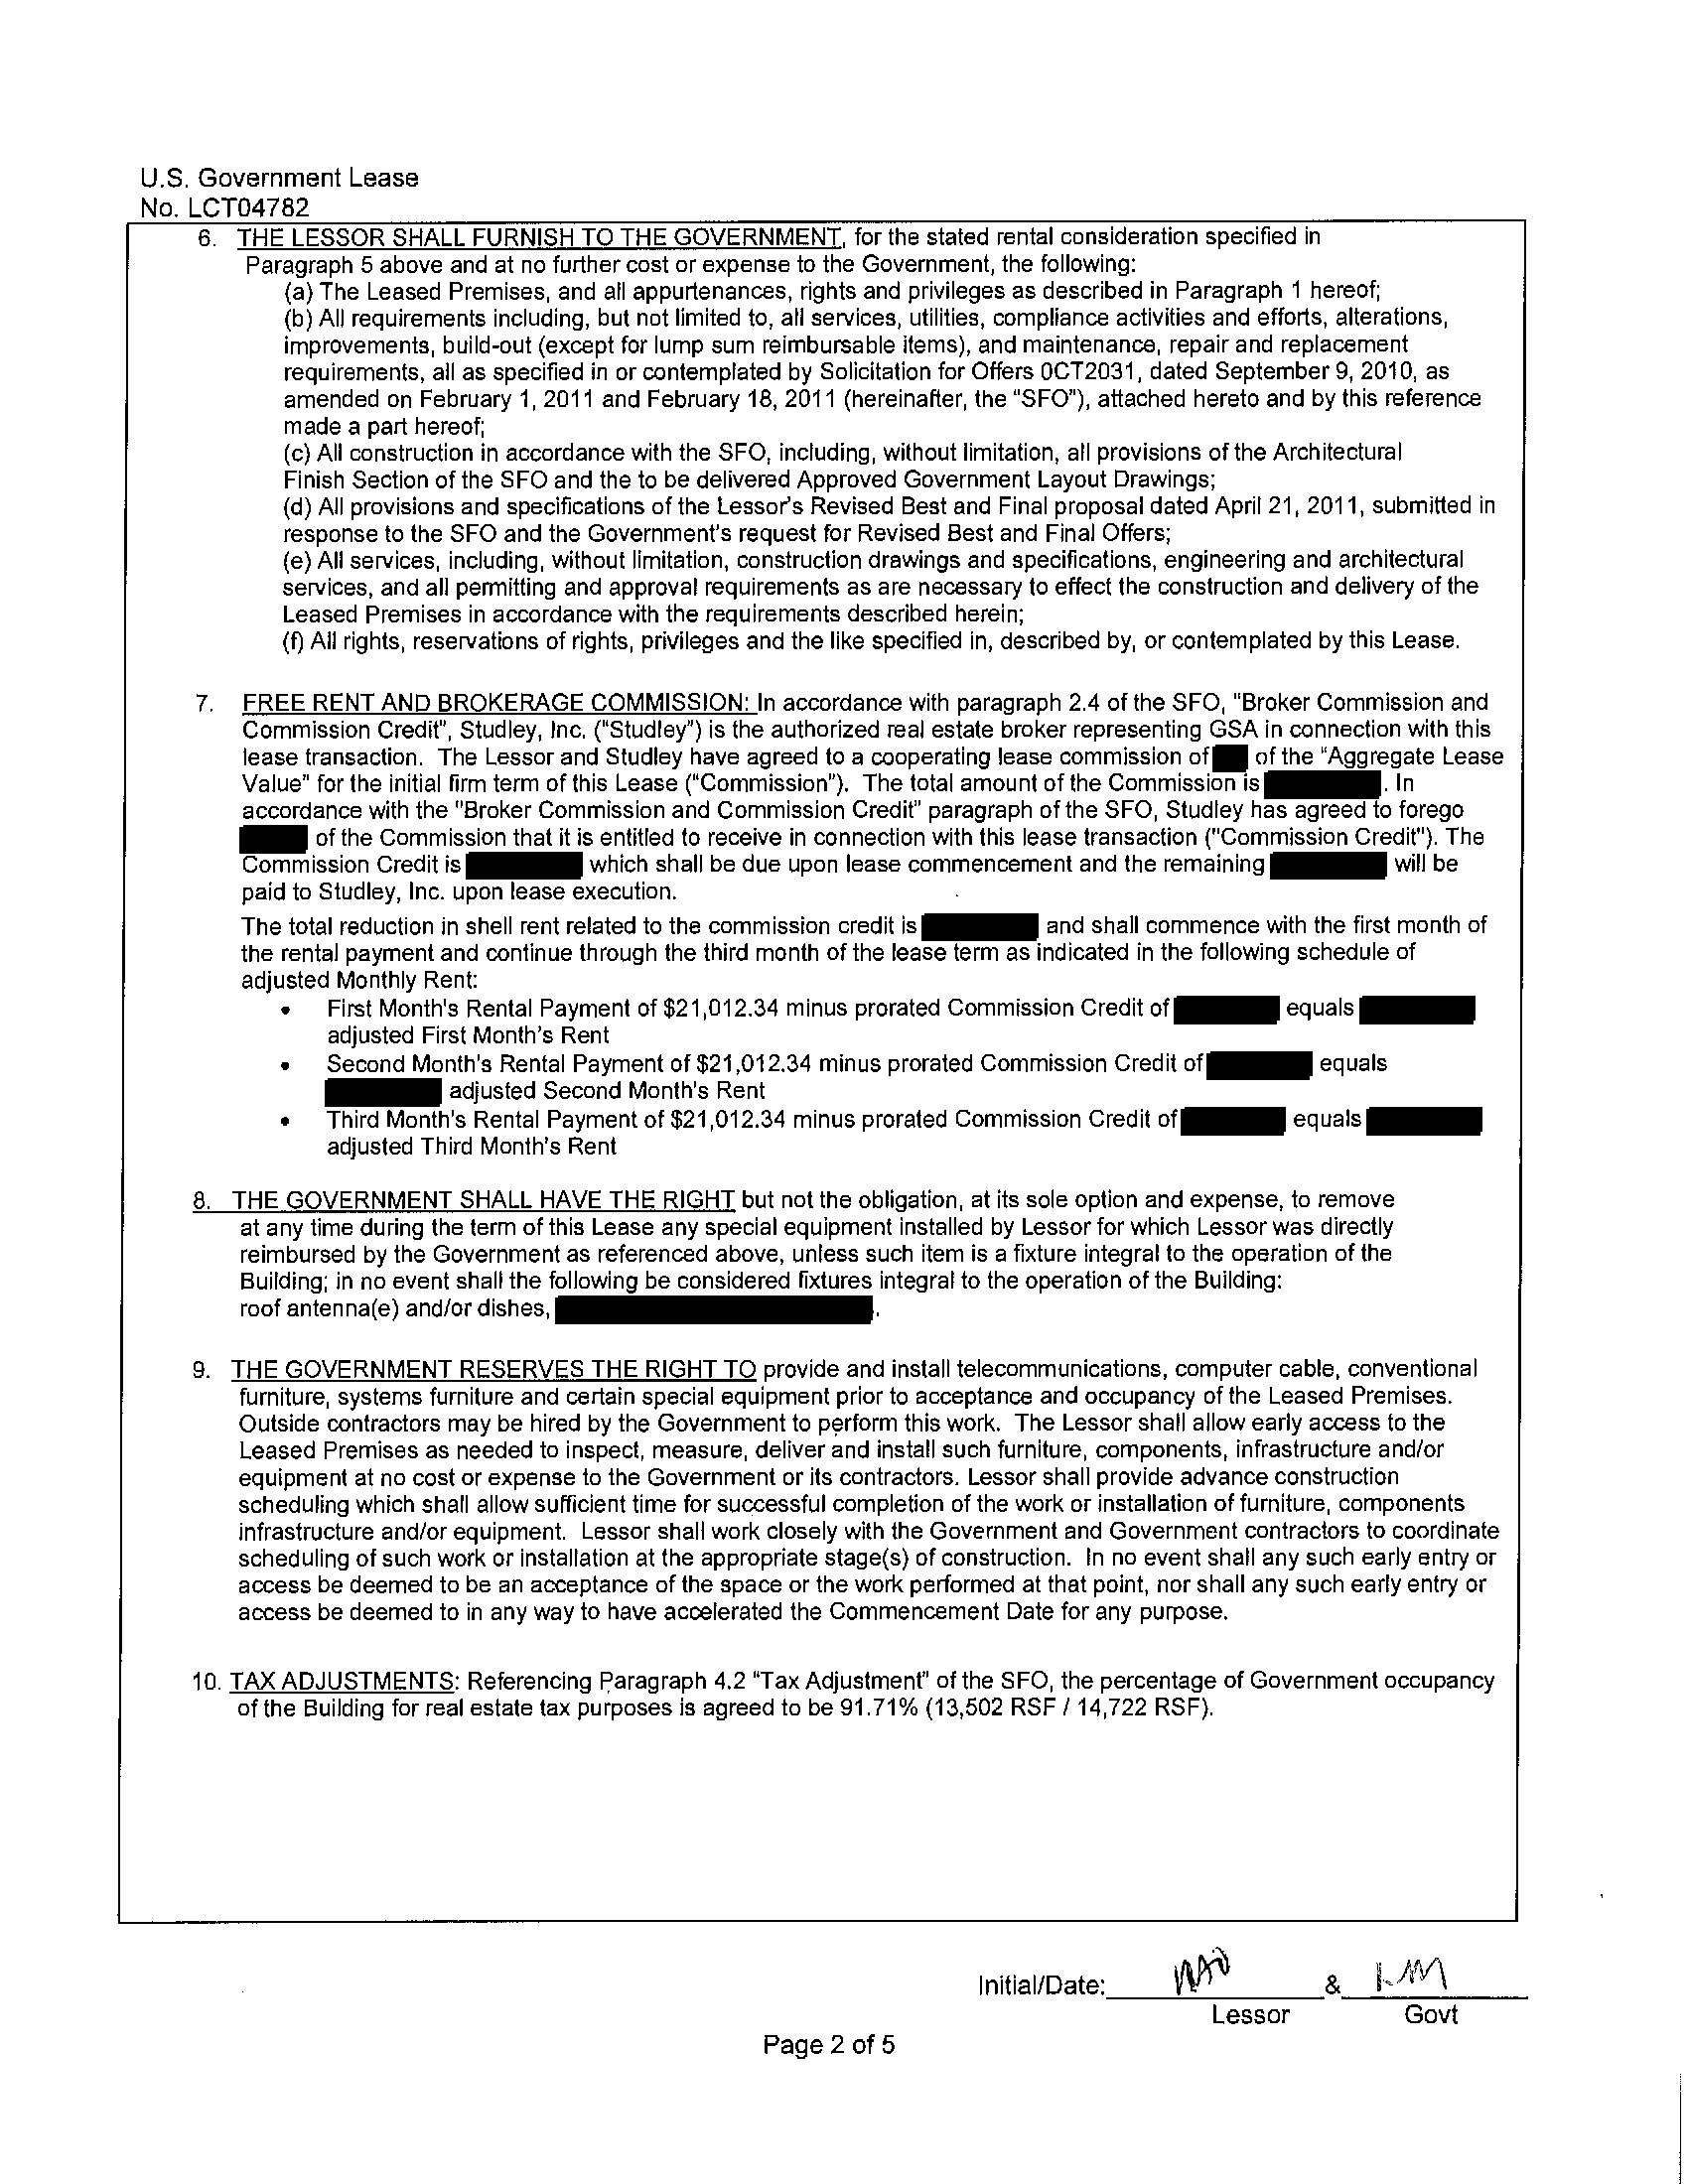handwritten: (1353, 1930, 1475, 2007), (1158, 1930, 1246, 2007)
